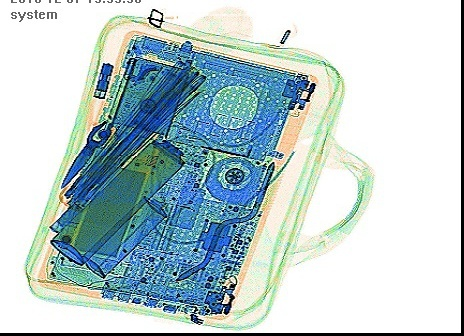pressure: (48, 136, 185, 267)
scissors: (58, 82, 152, 190)
zippooil: (84, 194, 167, 279)
